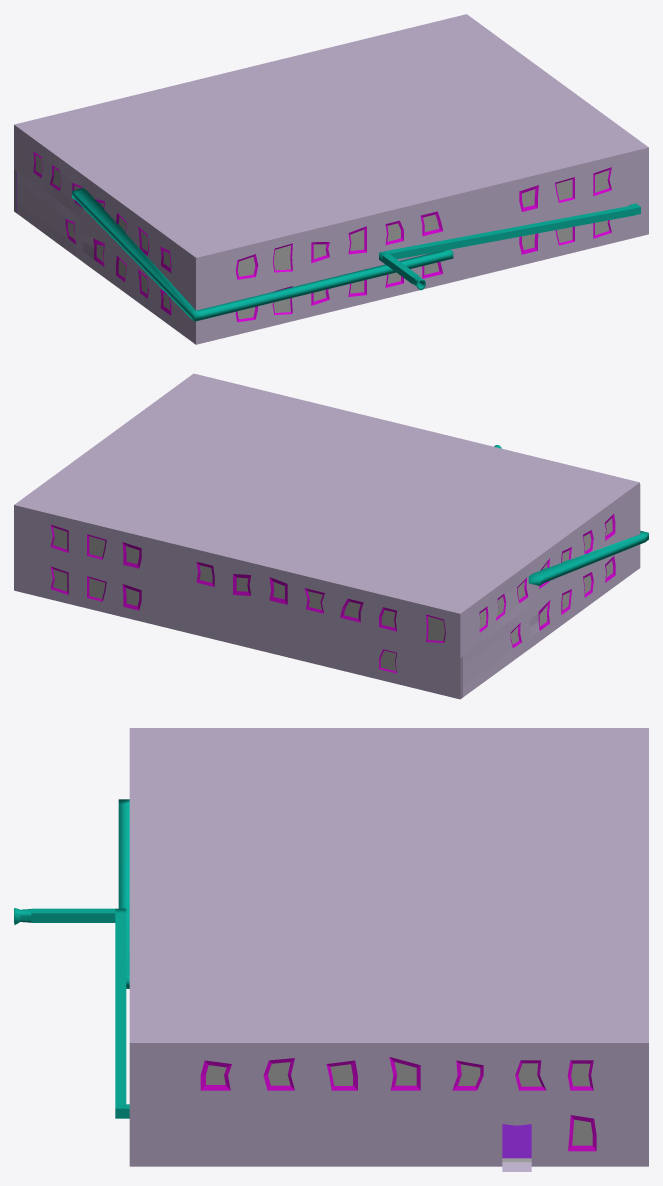
Rendered from SM_SchoolBuilding_3.2.fbx.
3 renders of one model, top to bottom at view 1: azimuth 30°, elevation 25°; view 2: azimuth 150°, elevation 25°; view 3: azimuth 270°, elevation 25°, orthographic. The views are drawn at different scales.
Parts seen in each view (by area): view 1: SM_SchoolCeiling_3, SM_SchoolWallEastTop_3, SM_SchoolWallEastBottom_3, SM_SchoolWallSouthBottom_3, SM_SchoolWallSoutTop_3, SM_Vent_1_2, SM_VentBathrooms; view 2: SM_SchoolCeiling_3, SM_SchoolWallWestTop_3, SM_SchoolWallWestBottom_3, SM_SchoolWallSouthBottom_3, SM_SchoolWallSoutTop_3, SM_Vent_1_2; view 3: SM_SchoolCeiling_3, SM_SchoolWallNorthTop_3, SM_SchoolWallNothBottom_3, SM_SchoolSmallWallNorthBottom_3, SM_VentBathrooms, SM_OutsideDoorFrame_3, SM_Vent_1_2, SM_HallwayFloor_3.
Part boxes in pixels (left/top/right/bottom): SM_SchoolCeiling_3: left=14, top=14, right=648, bottom=259; SM_SchoolWallEastTop_3: left=193, top=149, right=648, bottom=302; SM_SchoolWallEastBottom_3: left=193, top=192, right=648, bottom=344; SM_SchoolWallSouthBottom_3: left=17, top=172, right=193, bottom=342; SM_SchoolWallSoutTop_3: left=16, top=128, right=195, bottom=299; SM_Vent_1_2: left=72, top=188, right=453, bottom=321; SM_VentBathrooms: left=379, top=203, right=640, bottom=290; SM_SchoolCeiling_3: left=14, top=373, right=639, bottom=615; SM_SchoolWallWestTop_3: left=14, top=506, right=462, bottom=657; SM_SchoolWallWestBottom_3: left=14, top=549, right=462, bottom=699; SM_SchoolWallSouthBottom_3: left=463, top=528, right=637, bottom=697; SM_SchoolWallSoutTop_3: left=463, top=486, right=637, bottom=655; SM_Vent_1_2: left=528, top=530, right=648, bottom=585; SM_SchoolCeiling_3: left=129, top=728, right=648, bottom=1045; SM_SchoolWallNorthTop_3: left=137, top=1045, right=640, bottom=1106; SM_SchoolWallNothBottom_3: left=136, top=1106, right=485, bottom=1166; SM_SchoolSmallWallNorthBottom_3: left=547, top=1106, right=642, bottom=1166; SM_VentBathrooms: left=14, top=908, right=129, bottom=1118; SM_OutsideDoorFrame_3: left=485, top=1107, right=547, bottom=1171; SM_Vent_1_2: left=118, top=799, right=129, bottom=988; SM_HallwayFloor_3: left=502, top=1124, right=531, bottom=1158.
Bounding box in the file's own units: 5799 × 1032 × 4745.
